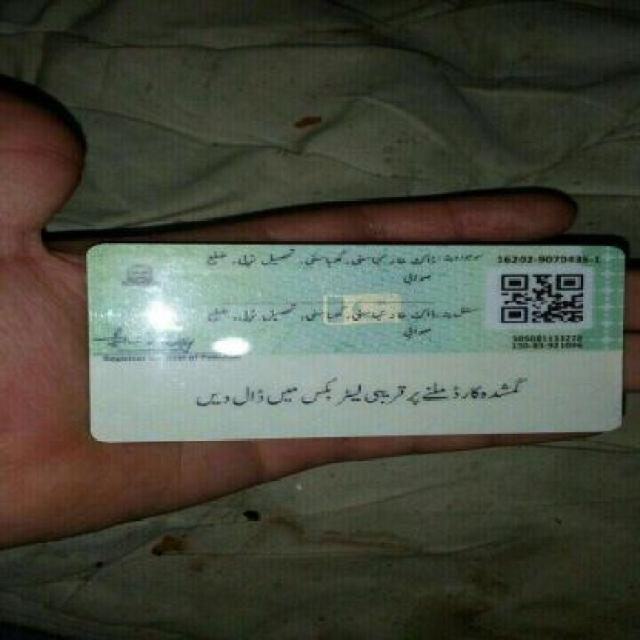Back: (77, 237, 629, 437)
